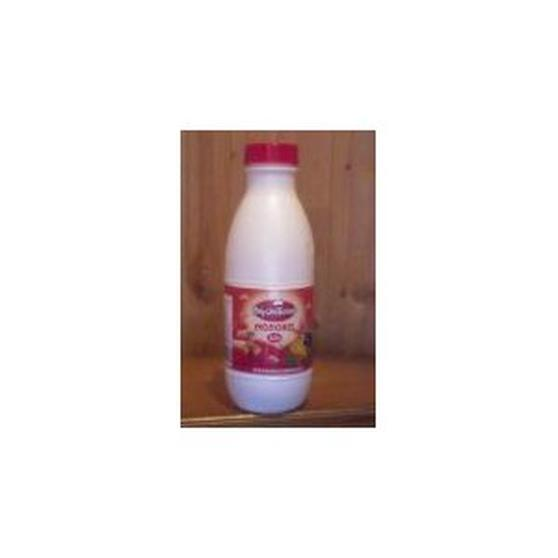milk: (215, 146, 317, 418)
